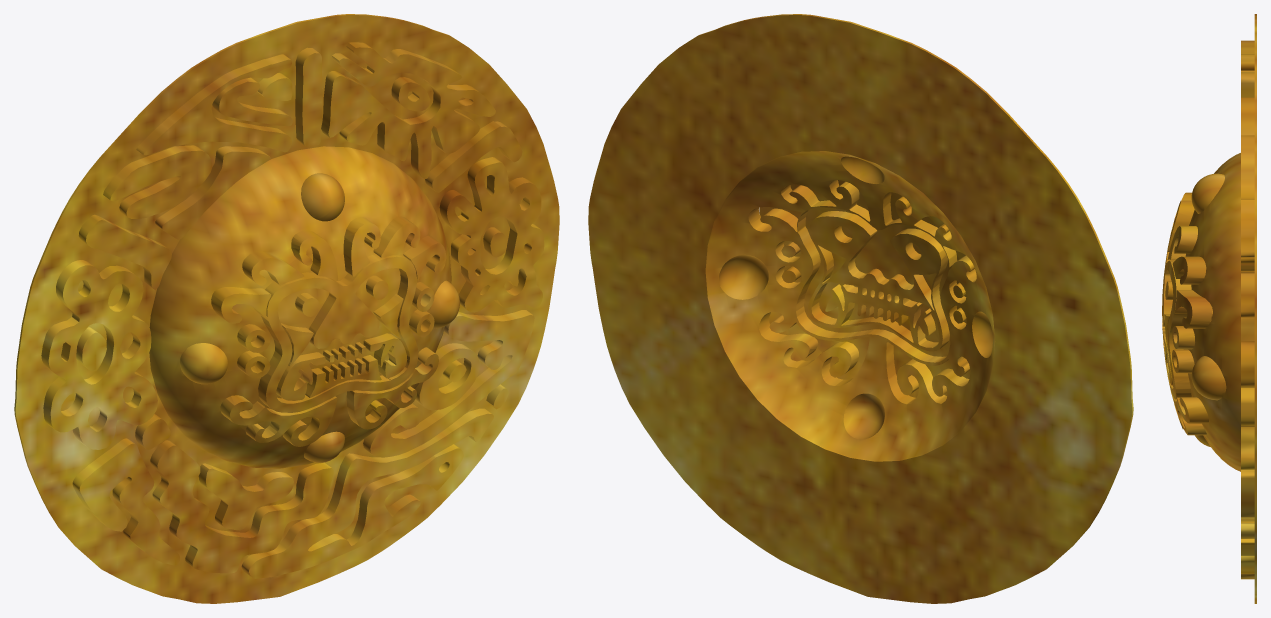
File: aro_mochica.glb
3 renders of one model, left to right at view 1: azimuth 30°, elevation 25°; view 2: azimuth 150°, elevation 25°; view 3: azimuth 270°, elevation 25°, orthographic. The views are drawn at different scales.
Parts seen in each view (by area): view 1: group_0_undefined; view 2: group_0_undefined; view 3: group_0_undefined.
Part boxes in pixels (box(x1,y1,x2,y2)): group_0_undefined: box(14, 14, 559, 603); group_0_undefined: box(588, 14, 1133, 603); group_0_undefined: box(1162, 14, 1256, 603).
Size of the model in its own units: 117 by 117 by 18.59.
1 material, 1 textured.
